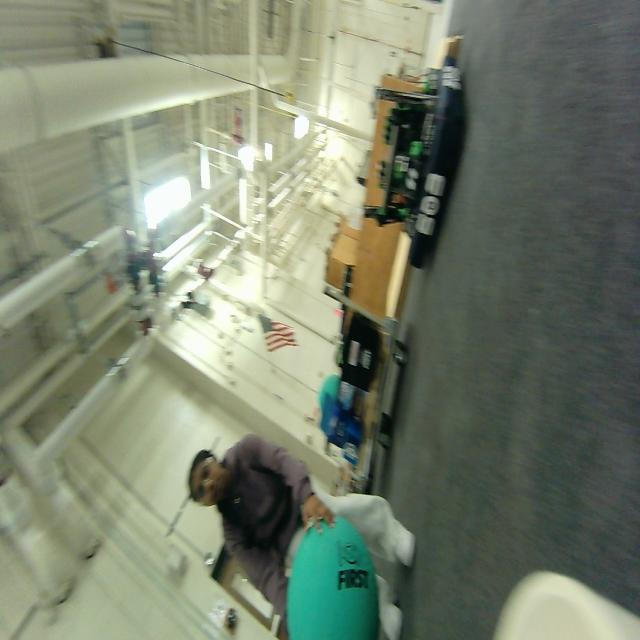algae: (285, 522, 379, 640)
